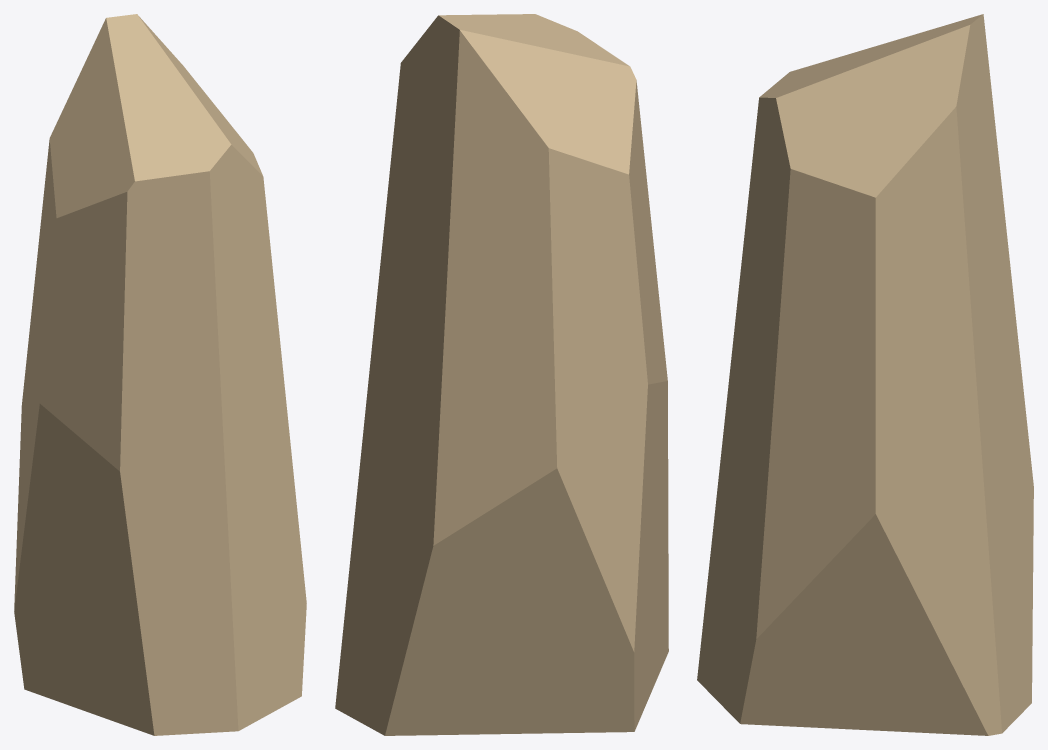
File: roca9.glb
3 views of the same model, side by side, from view 1: azimuth 30°, elevation 25°; view 2: azimuth 150°, elevation 25°; view 3: azimuth 270°, elevation 25° (orthographic). The views are drawn at different scales.
Visible parts, largest first — view 1: small_rock_04_Cylinder_003; view 2: small_rock_04_Cylinder_003; view 3: small_rock_04_Cylinder_003.
Part boxes in pixels (left/top/right/bottom): small_rock_04_Cylinder_003: left=14, top=14, right=306, bottom=735; small_rock_04_Cylinder_003: left=335, top=14, right=668, bottom=735; small_rock_04_Cylinder_003: left=697, top=14, right=1033, bottom=735.
Size of the model in its own units: 0.3974 by 0.9543 by 0.4357.
